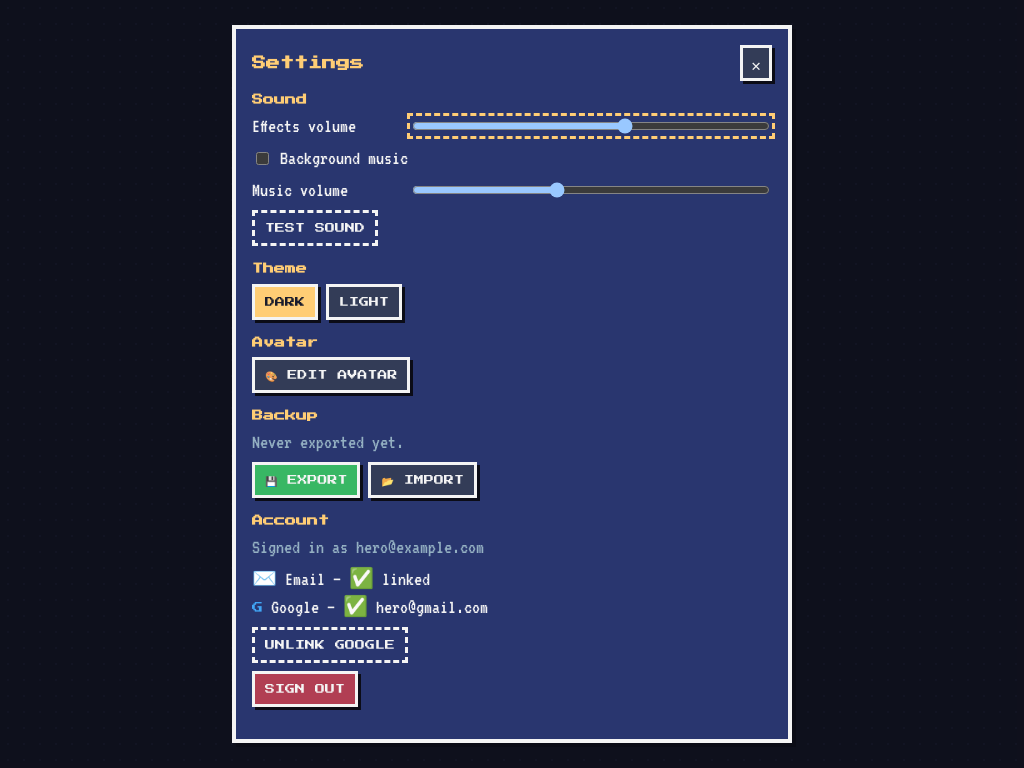
Scenario: SettingsPanel sign-in methods › shows the linked Google email and unlinks after confirmation
Check: the list item "G Google — ✅ hero@gmail.com" is shown, box x1=252 y1=597 x2=488 y2=617
Click the button "Unlink Google" at [330, 645], box x1=252 y1=627 x2=408 y2=663
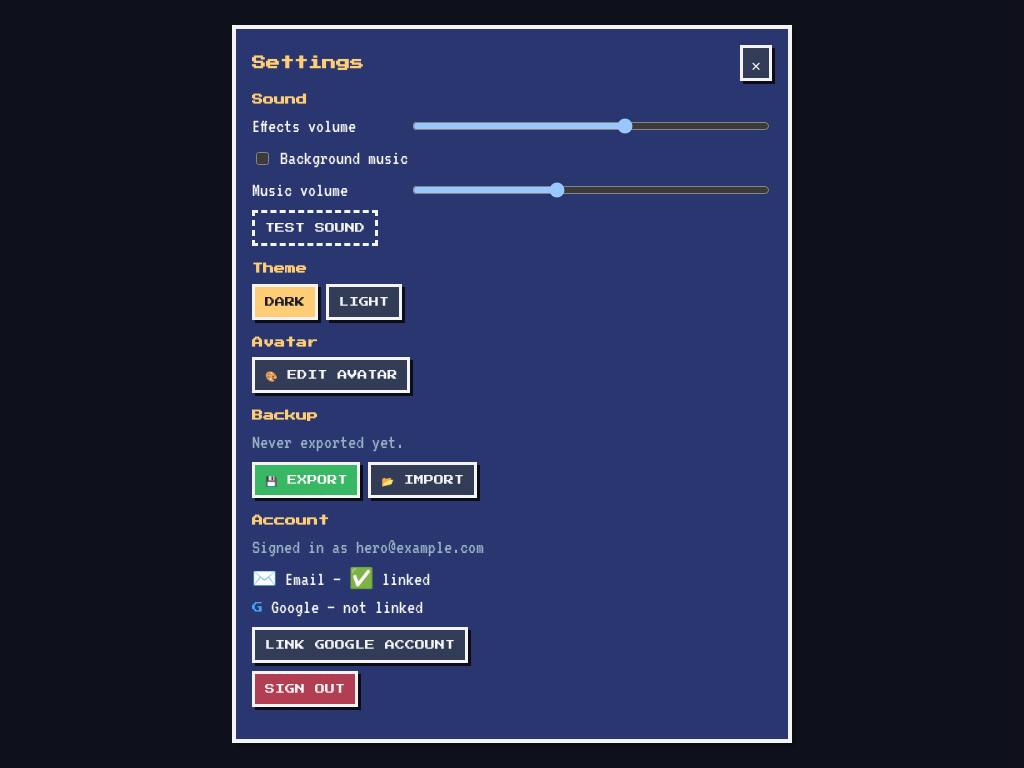
Check: the button "Link Google account" is shown, box x1=252 y1=627 x2=468 y2=663
